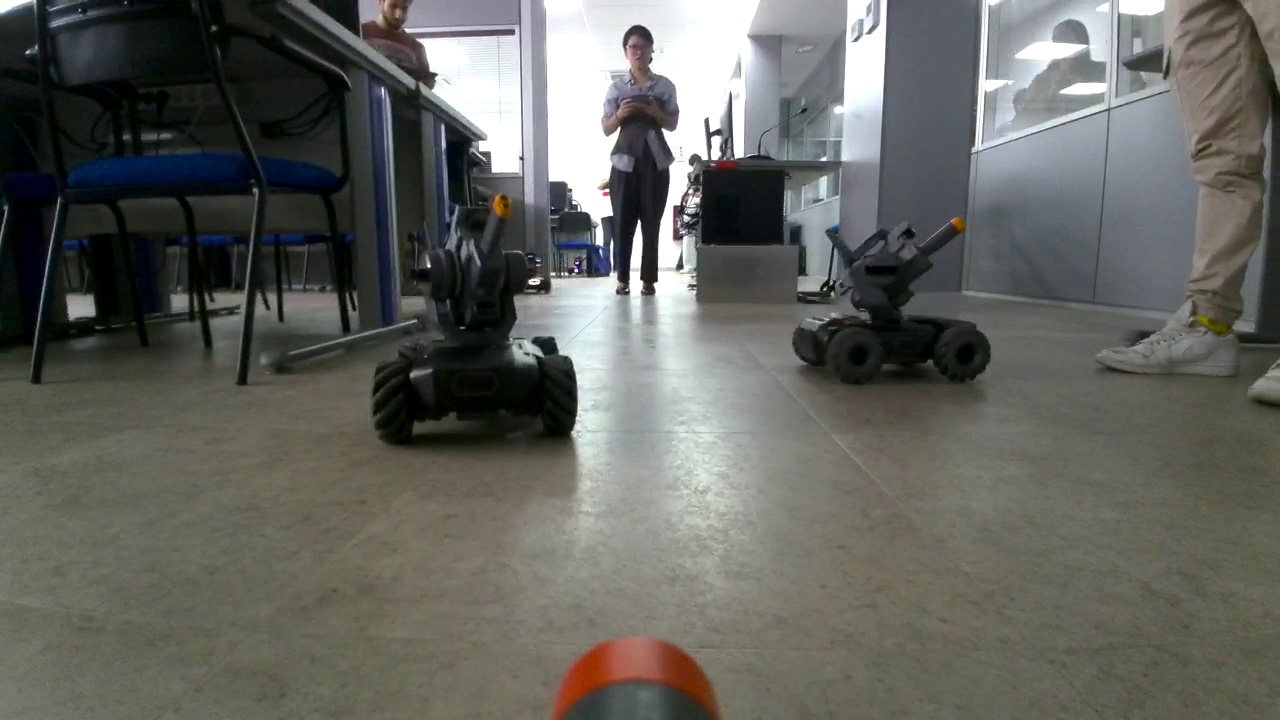robot: (367, 195, 582, 443), (791, 215, 993, 385), (566, 253, 587, 276)
